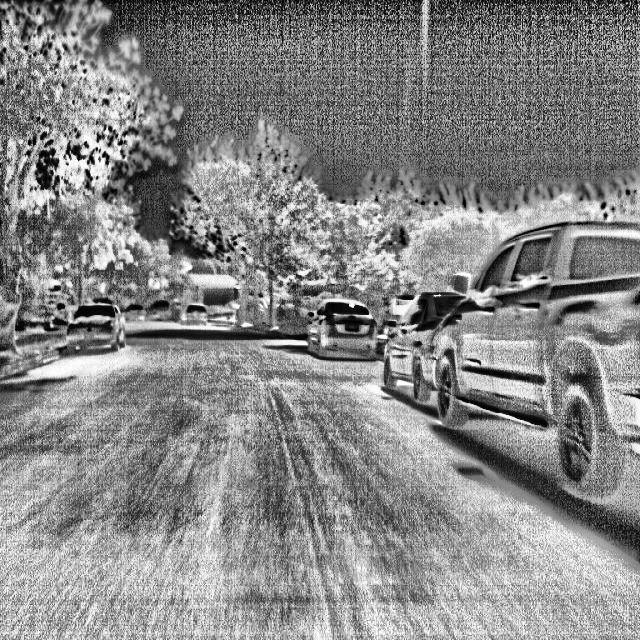car: (456, 193, 635, 530), (375, 282, 471, 411), (307, 283, 384, 392), (48, 277, 122, 362), (144, 297, 185, 329), (183, 299, 212, 339), (116, 301, 151, 334)
